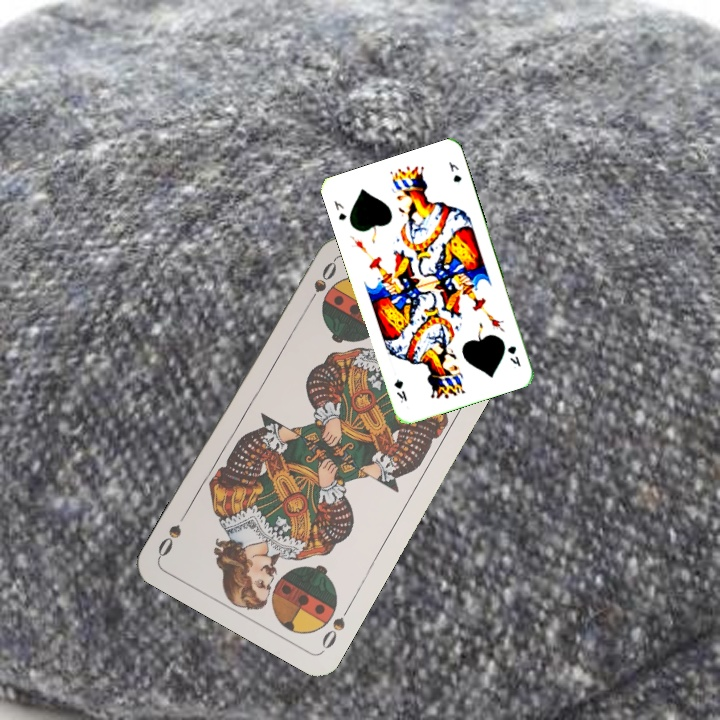GK: (503, 342, 523, 369), (330, 196, 349, 223)
SO: (302, 257, 339, 311), (317, 600, 354, 652)
